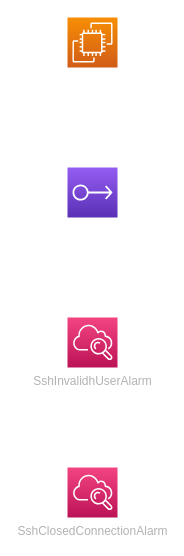
The diagram is 184 pixels wide and 556 high, and some of its shapes have lost their labels. The centre of each missing label's shape, as x and y in pixels:
BastionEip: [92,192]
BastionHost: [92,42]
